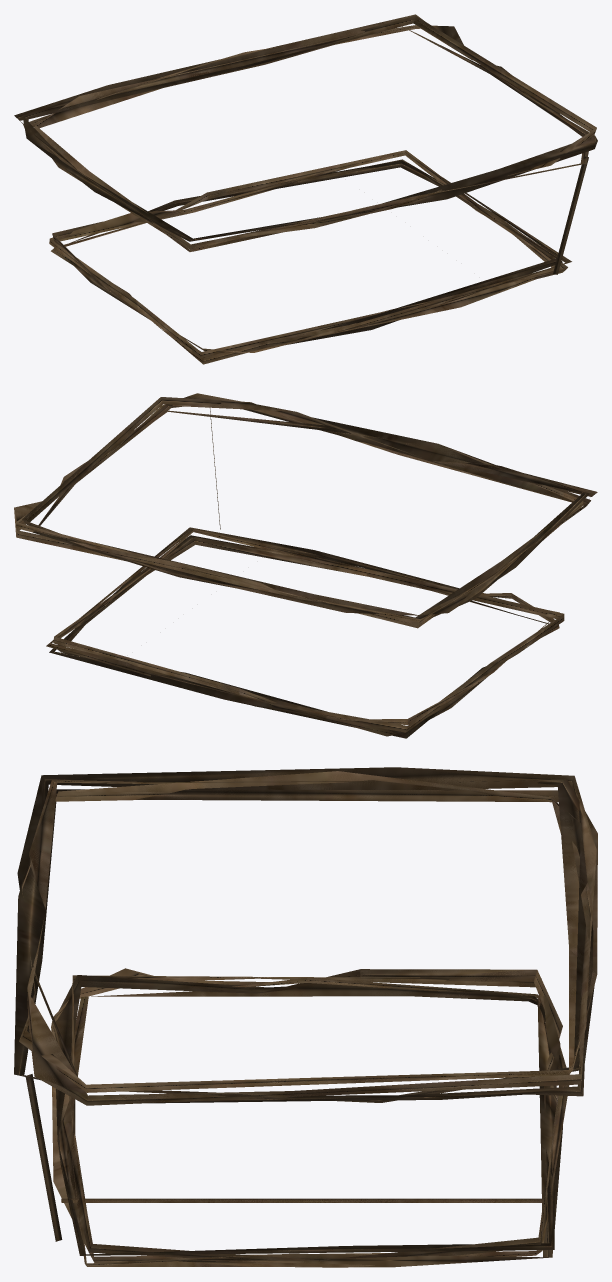
The model's file is wicker_basket_01.glb.
3 views of the same model, one above another, from view 1: azimuth 30°, elevation 25°; view 2: azimuth 150°, elevation 25°; view 3: azimuth 270°, elevation 25° (orthographic). The views are drawn at different scales.
Parts seen in each view (by area): view 1: wicker_basket_01; view 2: wicker_basket_01; view 3: wicker_basket_01.
Part boxes in pixels (<box>): wicker_basket_01: <box>14,14,597,364</box>; wicker_basket_01: <box>14,393,597,738</box>; wicker_basket_01: <box>14,767,597,1267</box>.
Size of the model in its own units: 0.3797 by 0.115 by 0.2905.
1 material, 1 textured.
